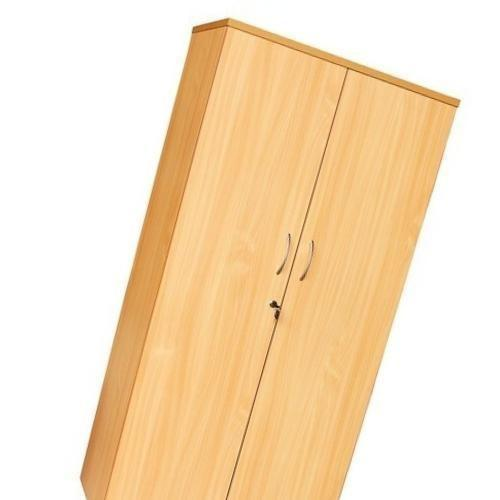Armario: (73, 18, 455, 491)
